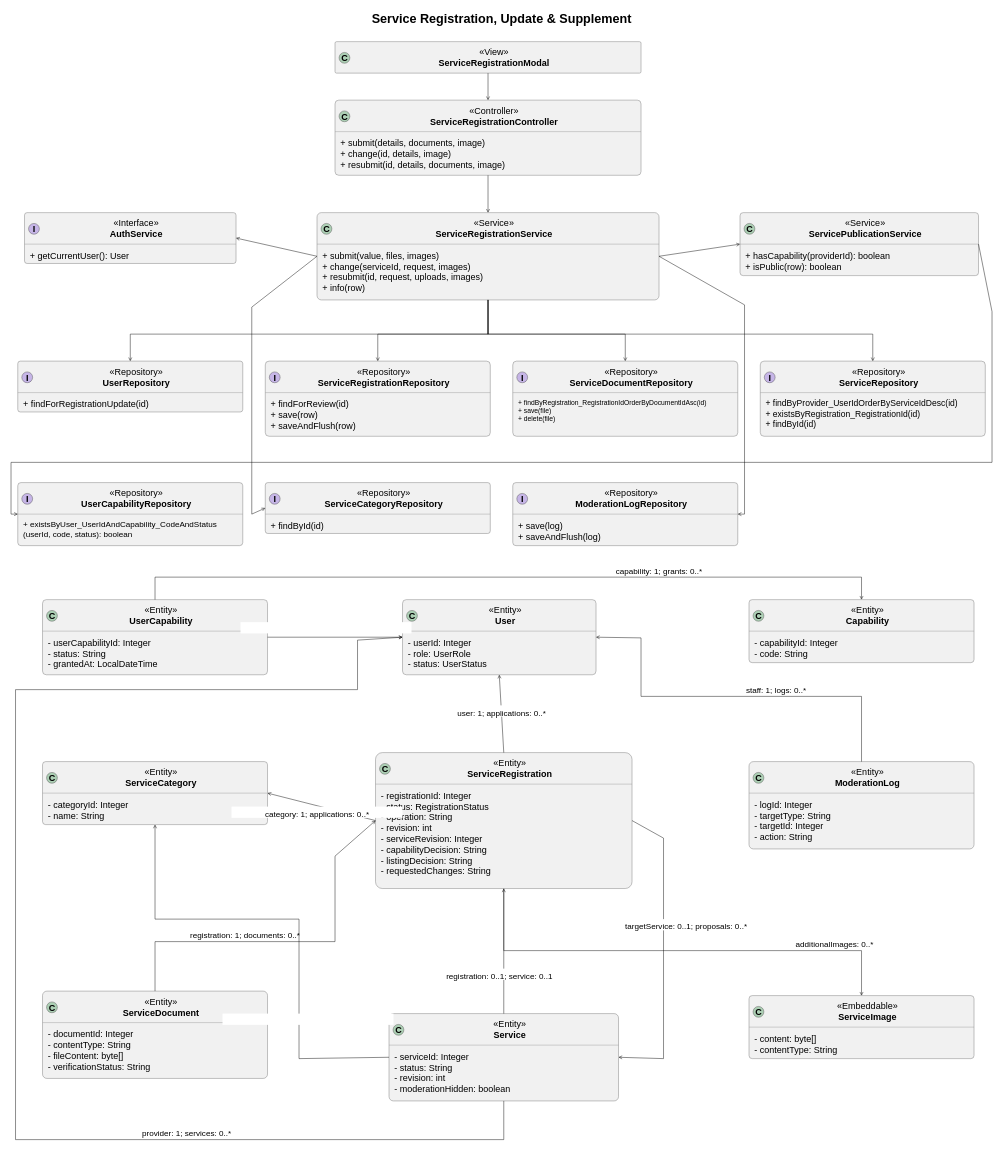
This 1004x1151 diagram has some shape labels left out. Each missing label, with the centre of its shape:
category: 1; services: 0..*: the point at 307,1019
user: 1; grants: 0..*: the point at 325,627
